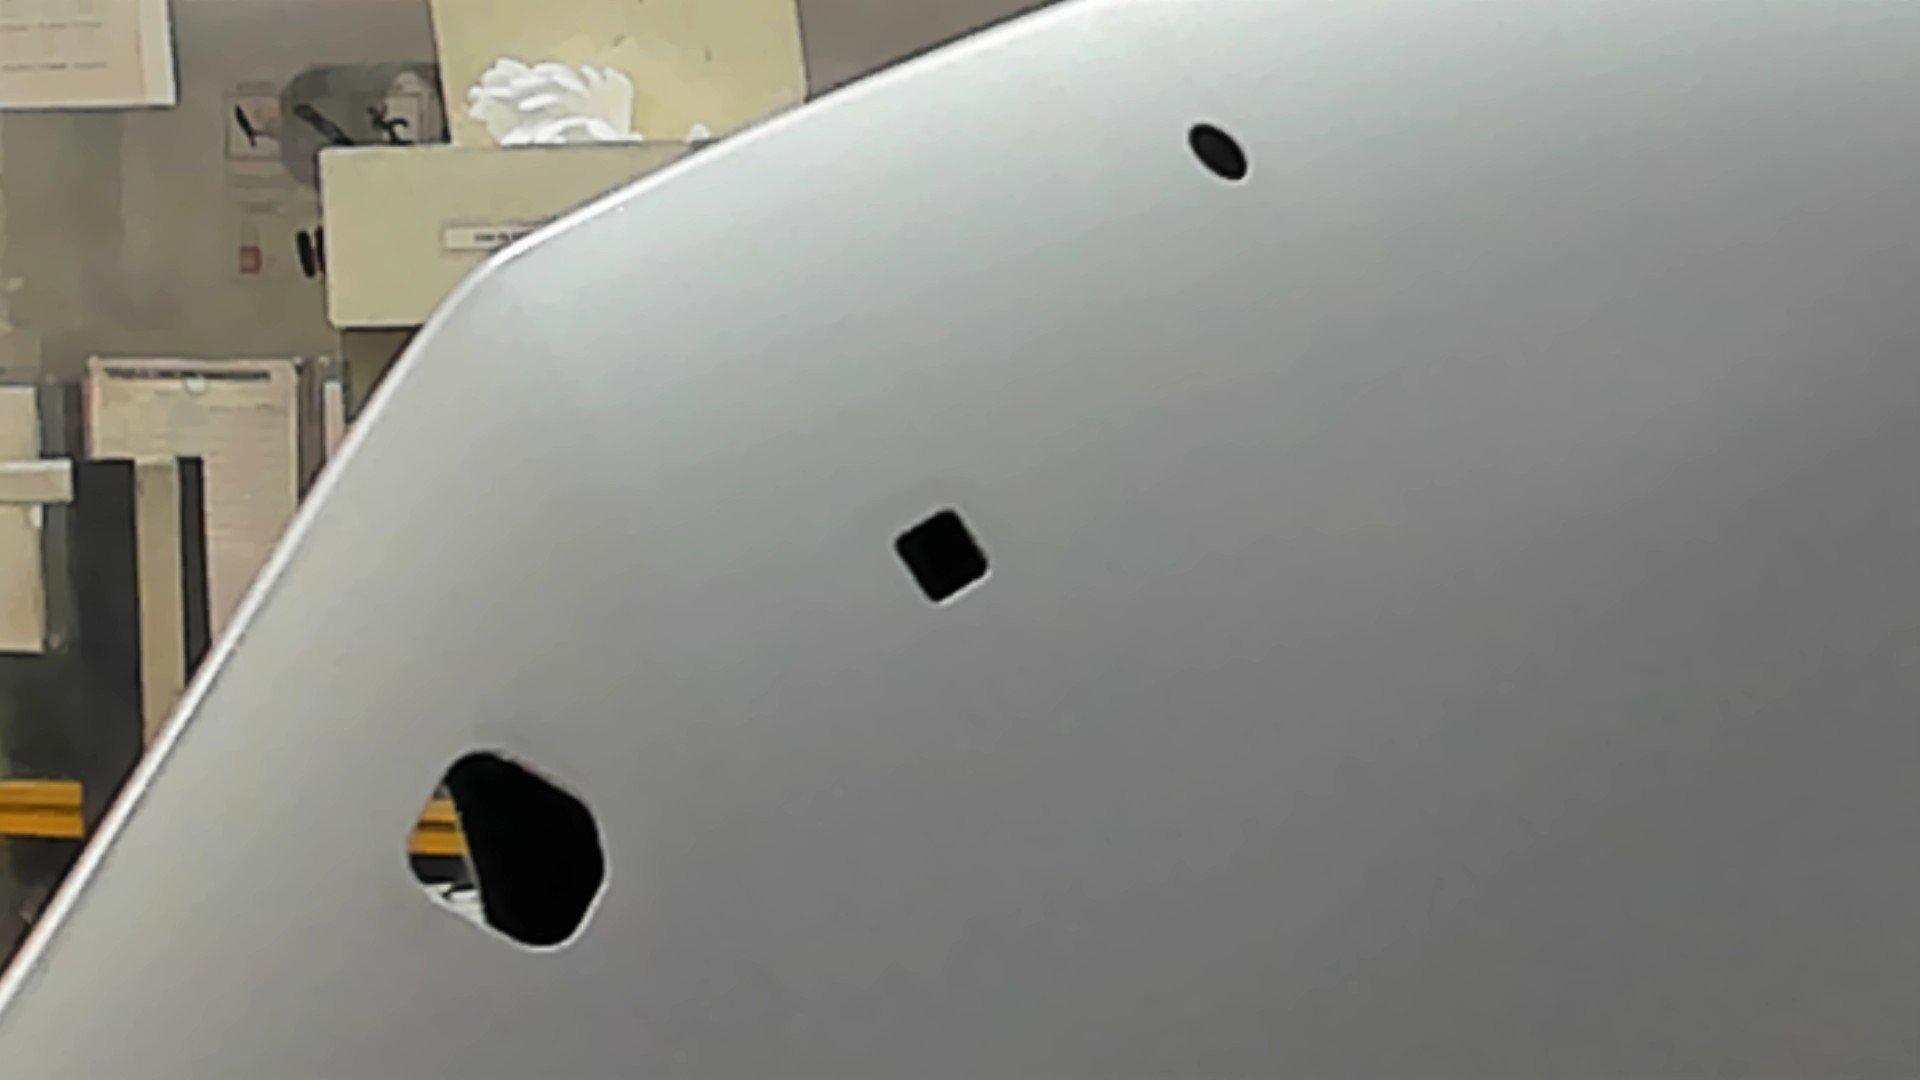Agujero: (890, 505, 992, 607), (1185, 120, 1249, 185)
Agujerote: (404, 749, 609, 951)
